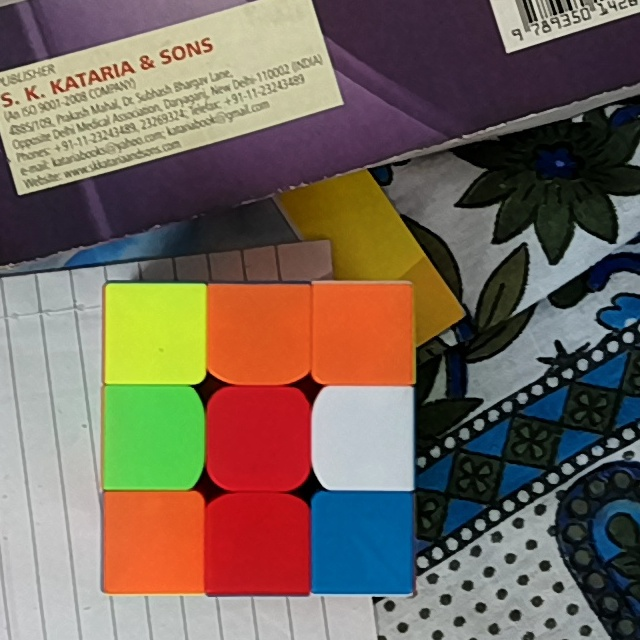tile: (319, 284, 409, 380), (108, 288, 201, 375), (320, 496, 407, 589), (211, 287, 303, 374), (109, 497, 198, 586), (109, 390, 195, 480), (323, 394, 409, 482), (216, 397, 303, 483), (213, 505, 303, 588)
